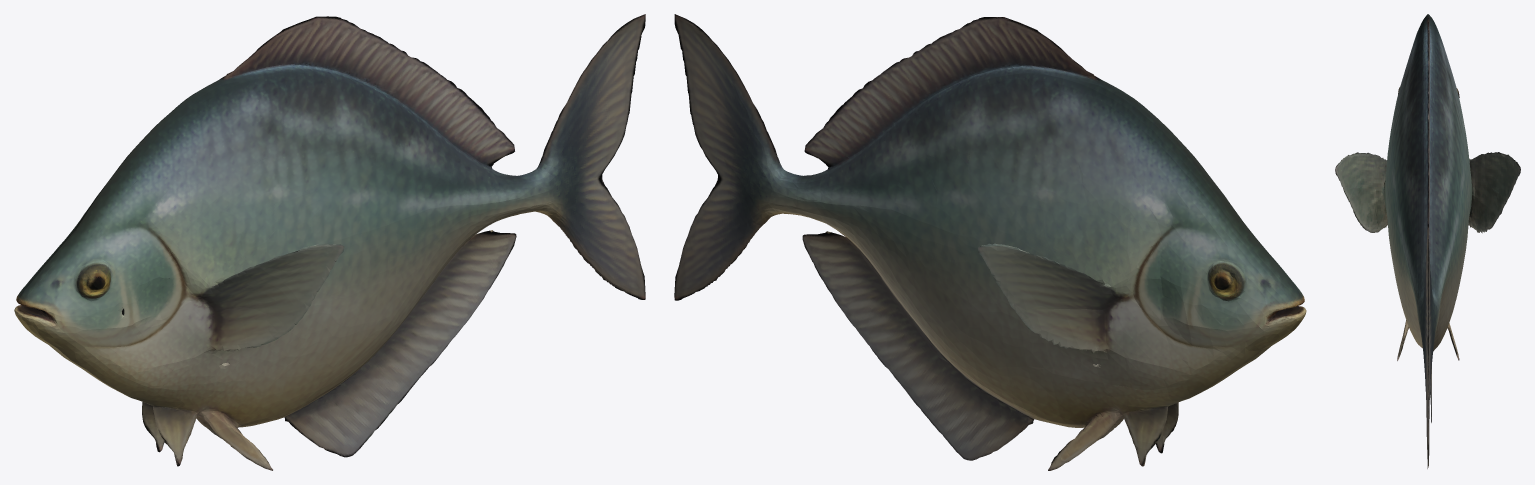
The picture shows the model from 3 angles, left to right: view 1: azimuth 30°, elevation 25°; view 2: azimuth 150°, elevation 25°; view 3: azimuth 270°, elevation 25°; orthographic projection. The views are drawn at different scales.
Parts seen in each view (by area): view 1: world; view 2: world; view 3: world.
Boxes of the visible parts, <box> form: world: <box>14,14,645,470</box>; world: <box>674,14,1306,470</box>; world: <box>1335,14,1520,468</box>.
Size of the model in its own units: 0.16 by 0.1095 by 0.0482.
1 material, 1 textured.
